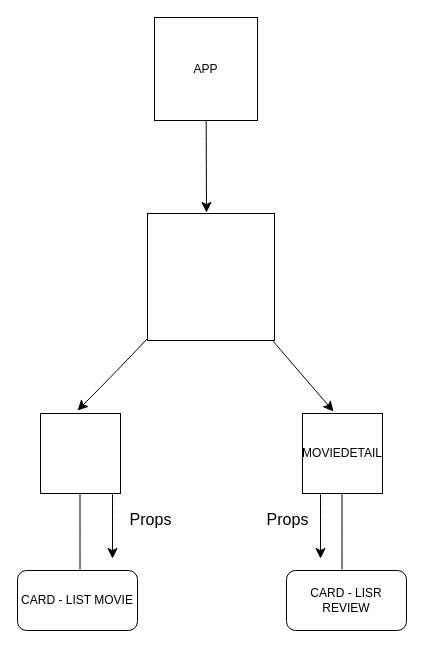
Some shapes in this 424 by 648 pixel diagram are drawn without their labels. The shapes that lost their labels are listed below. From the top down, each one's box as (x1, y1, x2, y2) in pixels, then its label:
(146, 212, 274, 340): ROUTER LAYOUT
(40, 412, 120, 494): HOMEPAGE
